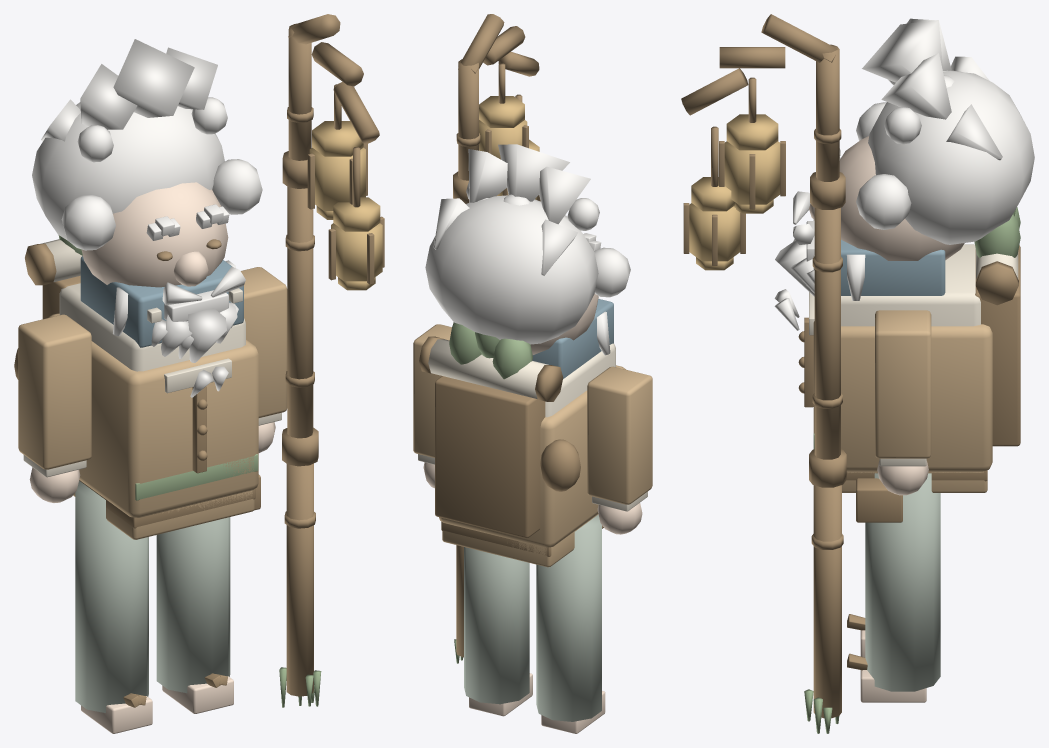
The model's file is npc_eldra_v3.glb.
3 renders of one model, left to right at view 1: azimuth 30°, elevation 25°; view 2: azimuth 150°, elevation 25°; view 3: azimuth 270°, elevation 25°, orthographic. The views are drawn at different scales.
Visible parts, largest first — view 1: Vest_Body, Trousers_L, Hair_Back_Dome, Trousers_R, Sleeve_L, Head_Mesh, Staff_Pole_mid, Staff_Pole_lo, Sleeve_R, Hair_Tuft_top, Scarf_Front, Tunic_Body (+32 smaller); view 2: Hair_Back_Dome, Backpack, Trousers_L, Trousers_R, Sleeve_L, Vest_Body, Bedroll.001, Sleeve_R, Scarf_Front, Hair_Tuft_top, Vest_Skirt, Staff_Pole_hi (+24 smaller); view 3: Hair_Back_Dome, Vest_Body, Trousers_R, Sleeve_R, Staff_Pole_mid, Staff_Pole_lo, Tunic_Body, Head_Mesh, Backpack, Scarf_Front, Hair_Tuft_top, Staff_Pole_hi (+23 smaller).
Boxes of the visible parts, x1,y1,x2,y2 form: Vest_Body: (48, 313, 258, 517); Trousers_L: (75, 480, 148, 712); Hair_Back_Dome: (32, 102, 224, 240); Trousers_R: (156, 517, 230, 693); Sleeve_L: (18, 314, 91, 469); Head_Mesh: (81, 182, 228, 287); Staff_Pole_mid: (287, 187, 313, 438); Staff_Pole_lo: (286, 463, 313, 696); Sleeve_R: (241, 267, 287, 417); Hair_Tuft_top: (113, 39, 194, 117); Scarf_Front: (80, 256, 243, 347); Tunic_Body: (59, 283, 245, 371); Hair_Back_Dome: (425, 195, 598, 344); Backpack: (435, 376, 545, 538); Trousers_L: (536, 514, 601, 721); Trousers_R: (464, 547, 529, 704); Sleeve_L: (587, 366, 652, 504); Vest_Body: (439, 365, 625, 547); Bedroll.001: (428, 339, 548, 398); Sleeve_R: (413, 324, 451, 457); Scarf_Front: (532, 299, 613, 378); Hair_Tuft_top: (498, 144, 569, 201); Vest_Skirt: (442, 514, 603, 567); Staff_Pole_hi: (458, 59, 478, 180); Hair_Back_Dome: (868, 70, 1034, 244); Vest_Body: (813, 321, 992, 471); Trousers_R: (865, 473, 940, 691); Sleeve_R: (875, 310, 931, 458); Staff_Pole_mid: (814, 207, 840, 459); Staff_Pole_lo: (813, 485, 841, 718); Tunic_Body: (841, 244, 980, 326); Head_Mesh: (839, 136, 964, 260); Backpack: (975, 245, 1020, 446); Scarf_Front: (841, 240, 945, 295); Hair_Tuft_top: (862, 20, 942, 82); Staff_Pole_hi: (816, 44, 839, 181).
Size of the model in its own units: 0.641 by 1.68 by 0.7516.
